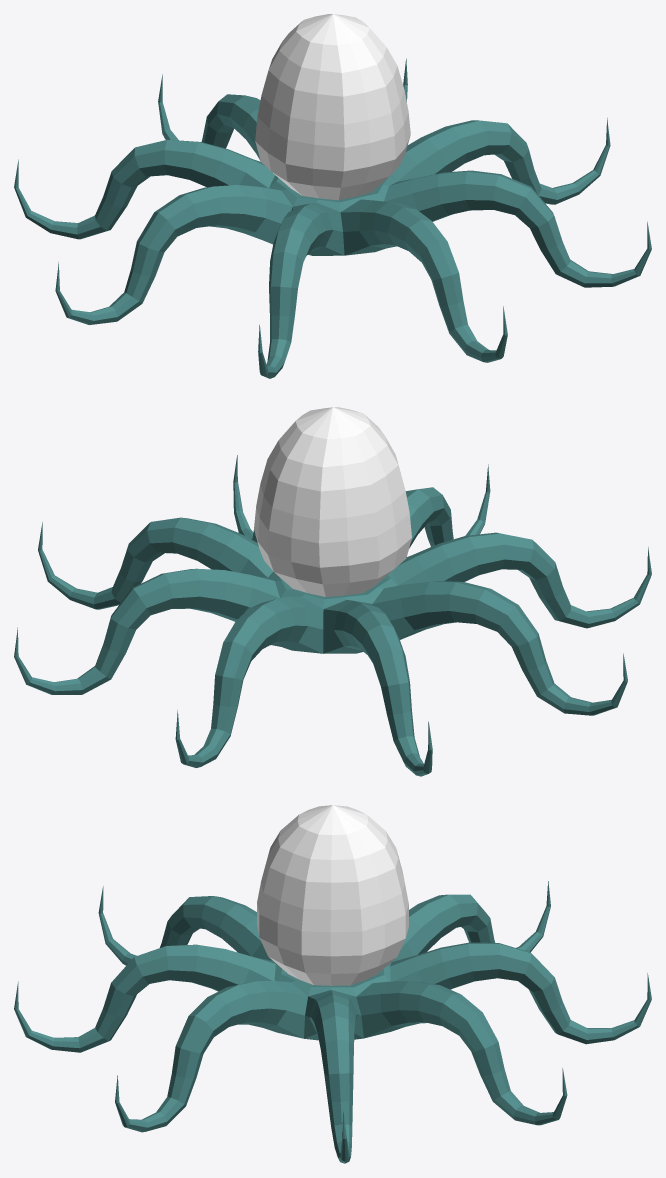
File: plante_ihab.fbx
The picture shows the model from 3 angles, top to bottom: view 1: azimuth 30°, elevation 25°; view 2: azimuth 150°, elevation 25°; view 3: azimuth 270°, elevation 25°; orthographic projection. The views are drawn at different scales.
Parts seen in each view (by area): view 1: MASH1_ReproMesh; view 2: MASH1_ReproMesh; view 3: MASH1_ReproMesh.
Part boxes in pixels (left/top/right/bottom): MASH1_ReproMesh: left=14, top=14, right=651, bottom=378; MASH1_ReproMesh: left=14, top=407, right=651, bottom=776; MASH1_ReproMesh: left=14, top=805, right=651, bottom=1163.
Bounding box in the file's own units: 24.37 × 10.25 × 24.37.
